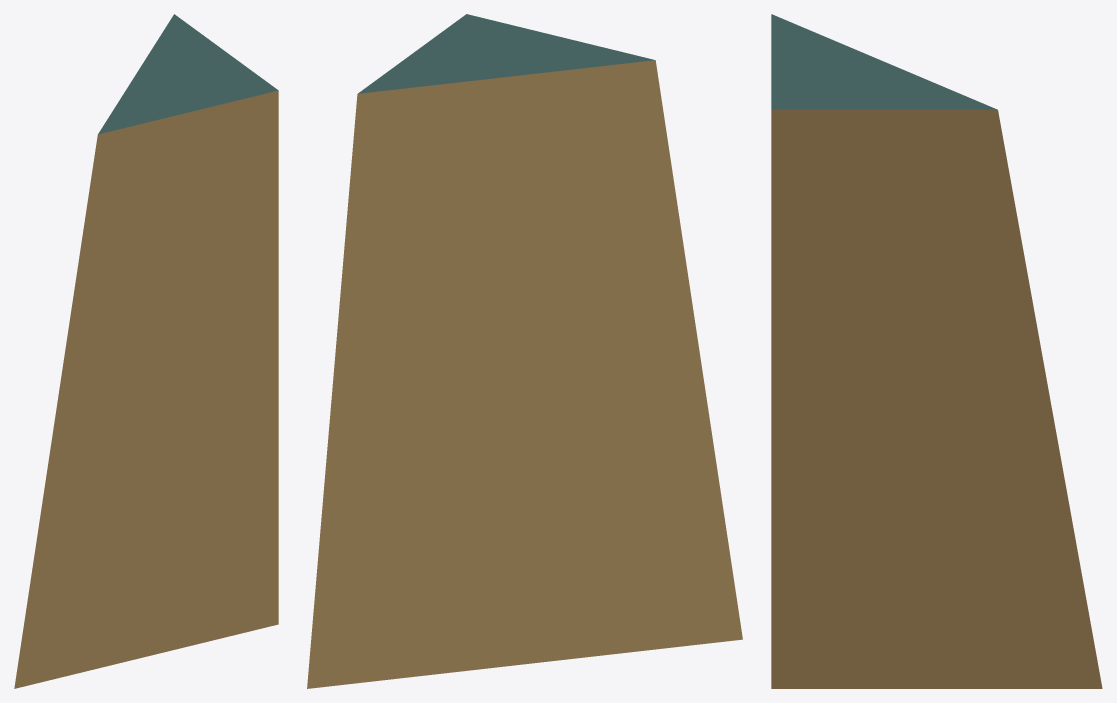
The model's file is Brown_Cliff_Bottom_Corner_Green_Top_01.fbx.
3 views of the same model, side by side, from view 1: azimuth 30°, elevation 25°; view 2: azimuth 150°, elevation 25°; view 3: azimuth 270°, elevation 25° (orthographic). The views are drawn at different scales.
Parts seen in each view (by area): view 1: Mesh1_Brown_Cliff_Bottom_Corner_Green_Top Model; view 2: Mesh1_Brown_Cliff_Bottom_Corner_Green_Top Model; view 3: Mesh1_Brown_Cliff_Bottom_Corner_Green_Top Model.
Boxes of the visible parts, bbox=[...] form: Mesh1_Brown_Cliff_Bottom_Corner_Green_Top Model: bbox=[14, 14, 278, 688]; Mesh1_Brown_Cliff_Bottom_Corner_Green_Top Model: bbox=[307, 14, 742, 688]; Mesh1_Brown_Cliff_Bottom_Corner_Green_Top Model: bbox=[771, 14, 1102, 688].
Bounding box in the file's own units: 1.14 × 2.2 × 1.14.
